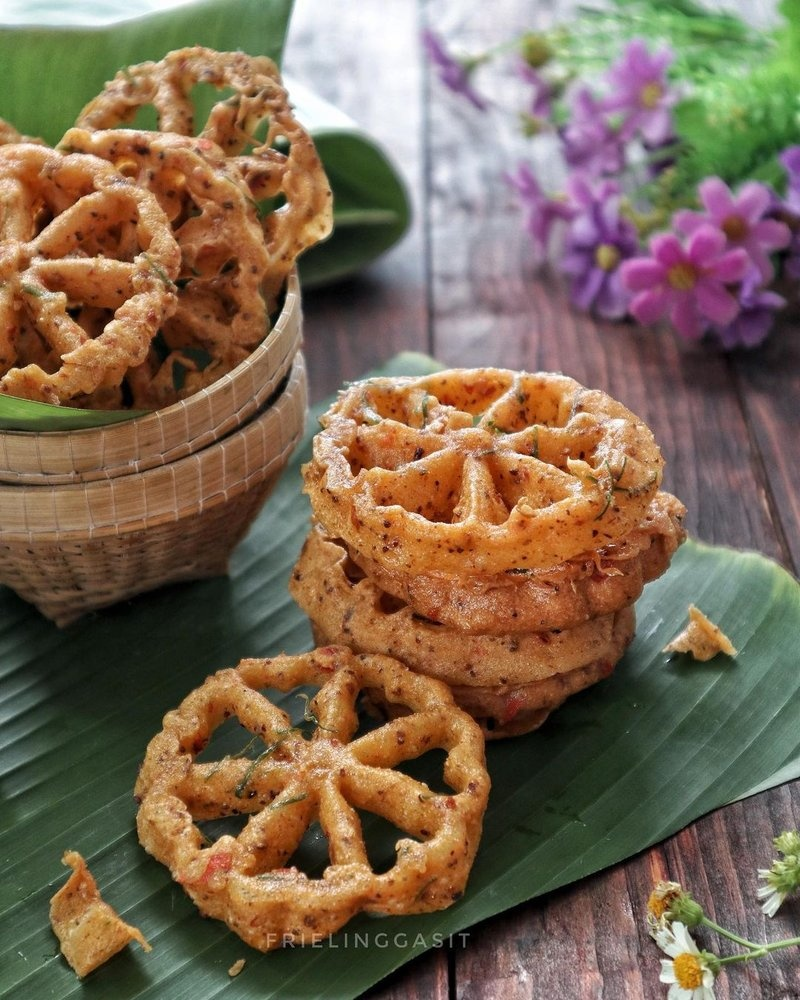kembang_goyang: (96, 623, 481, 949)
